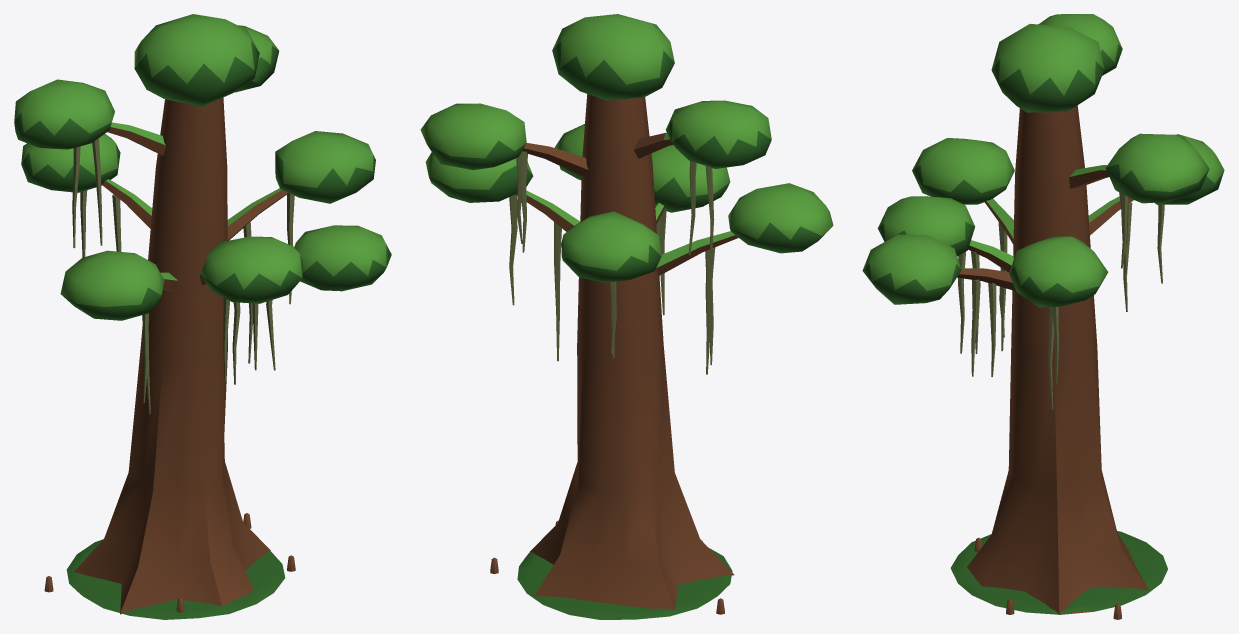
File: BigCypress.fbx
3 renders of one model, left to right at view 1: azimuth 30°, elevation 25°; view 2: azimuth 150°, elevation 25°; view 3: azimuth 270°, elevation 25°, orthographic.
Visible parts, largest first — view 1: BigCypress; view 2: BigCypress; view 3: BigCypress.
Part boxes in pixels (x1=…): BigCypress: x1=14, y1=14, x2=391, y2=619; BigCypress: x1=420, y1=14, x2=833, y2=619; BigCypress: x1=862, y1=14, x2=1224, y2=619.
Size of the model in its own units: 6.5 by 9.79 by 5.88.
1 material, 1 textured.
